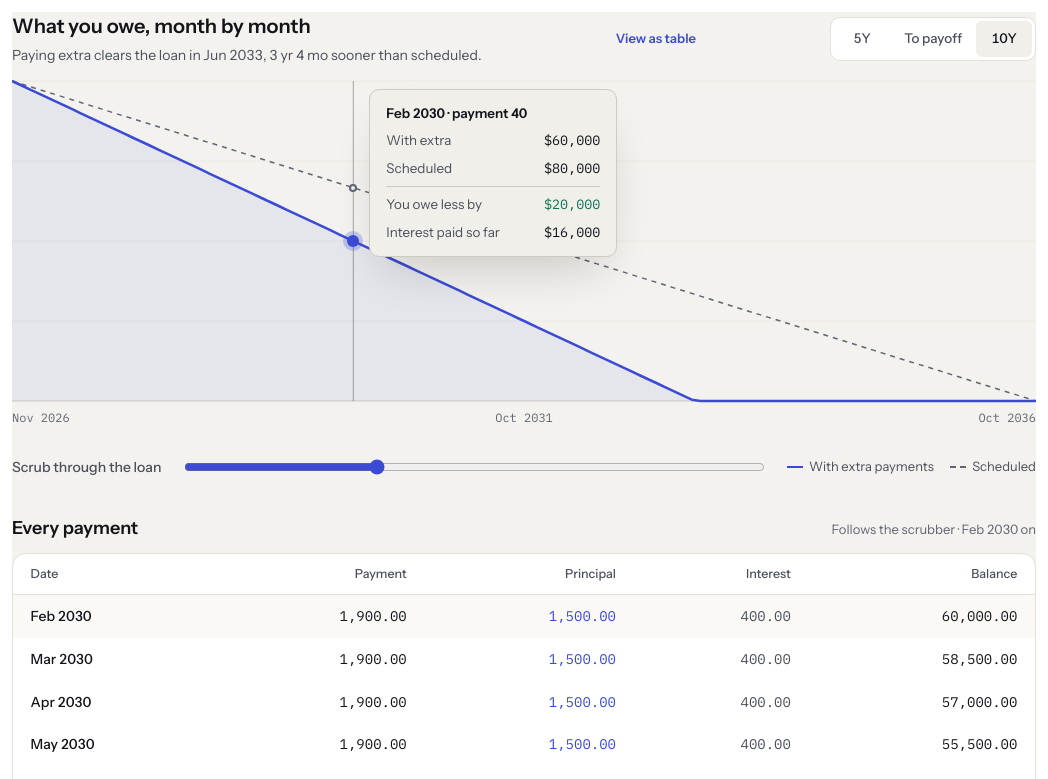
BalanceChartComponent › moves a year at a time with Page Up and Page Down
Set the slider with test id "scrubber" to "24": (301, 467) [184,445,765,489]
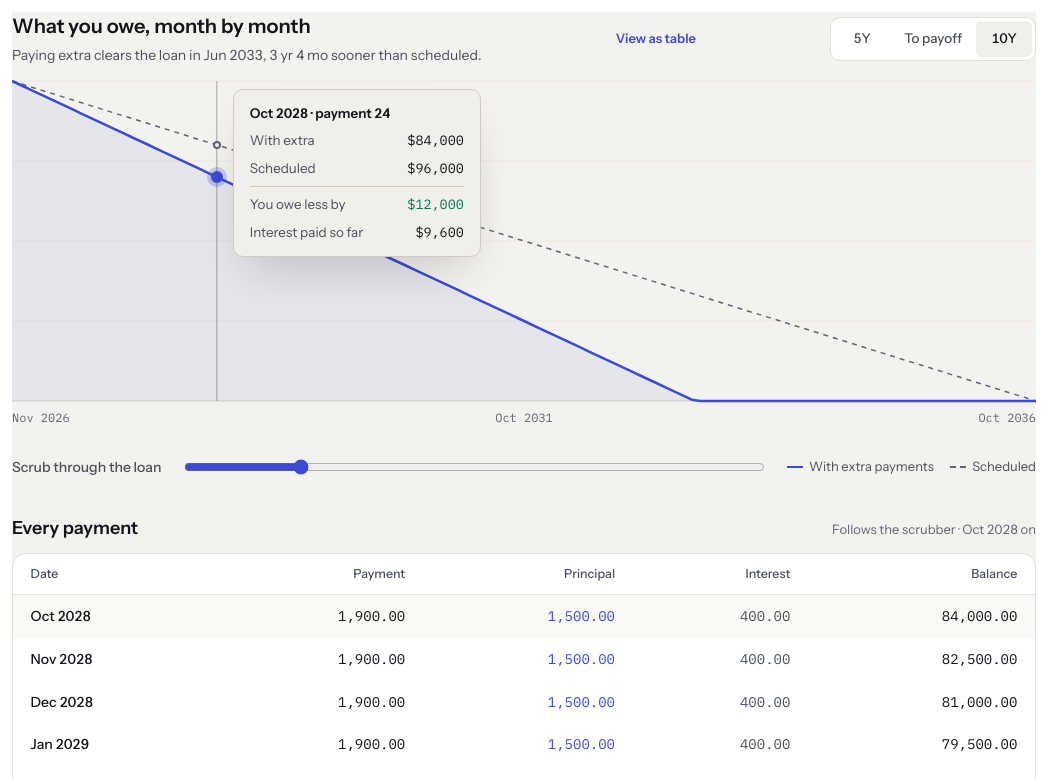
Press PageUp in the slider with test id "scrubber", box [184,445,765,489]
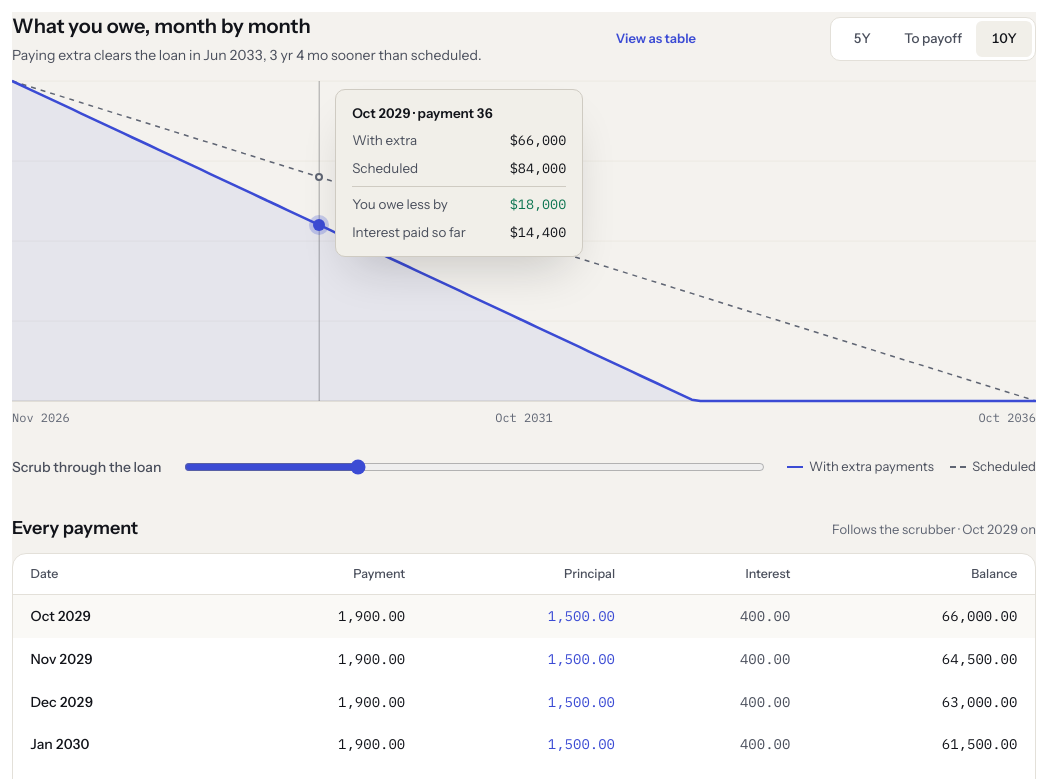
Expected: the text "Oct 2029 · payment 36" is shown, [352,105,493,121]
Press PageDown in the slider with test id "scrubber", box [184,445,765,489]
Press PageDown in the slider with test id "scrubber", box [184,445,765,489]
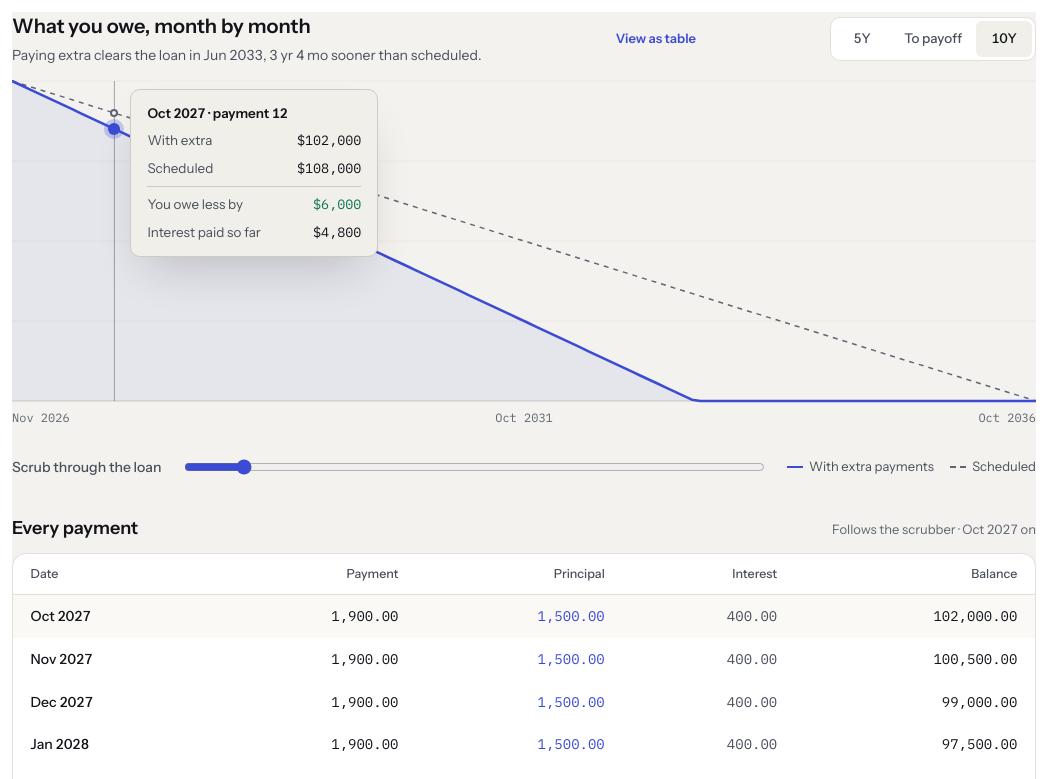
Expected: the text "Oct 2027 · payment 12" is shown, [147,105,288,121]
